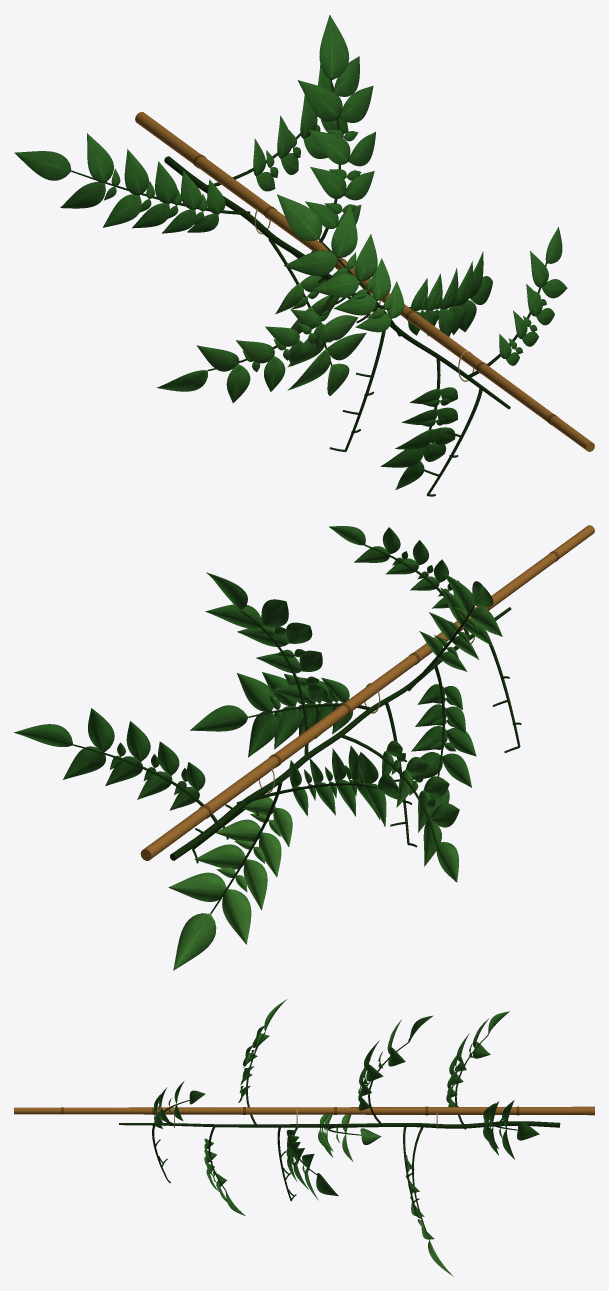
File: tomato_plant_c.obj
3 views of the same model, one above another, from view 1: azimuth 30°, elevation 25°; view 2: azimuth 150°, elevation 25°; view 3: azimuth 270°, elevation 25° (orthographic). The views are drawn at different scales.
Parts seen in each view (by area): view 1: stake, stem, leaflet.037, leaflet.066, leaflet.019, leaflet.035, leaflet.064, leaflet.065, leaflet.018, leaflet.033, leaflet.017, leaflet.036 (+10 smaller); view 2: stake, stem, leaflet.028, leaflet.026, leaflet.027, leaflet.057, leaflet.008, leaflet.056, leaflet.055, leaflet.024, leaflet.036, leaflet.025 (+11 smaller); view 3: stake, stem.
Boxes of the visible parts, x1,y1,x2,y2 form: stake: (135, 112, 594, 451); stem: (164, 156, 510, 409); leaflet.037: (319, 15, 349, 80); leaflet.066: (277, 194, 322, 241); leaflet.019: (14, 151, 71, 180); leaflet.035: (297, 80, 342, 121); leaflet.064: (283, 250, 337, 276); leaflet.065: (331, 205, 357, 258); leaflet.018: (87, 133, 113, 182); leaflet.033: (308, 129, 350, 164); leaflet.017: (60, 182, 105, 208); leaflet.036: (339, 86, 373, 122); stake: (140, 525, 594, 860); stem: (170, 607, 511, 860); leaflet.028: (173, 913, 216, 970); leaflet.026: (168, 872, 226, 901); leaflet.027: (222, 889, 251, 944); leaflet.057: (190, 705, 248, 731); leaflet.008: (14, 724, 73, 746); leaflet.056: (248, 711, 278, 757); leaflet.055: (237, 673, 274, 711); leaflet.024: (194, 844, 245, 869); leaflet.036: (205, 604, 262, 628); leaflet.025: (243, 859, 267, 910); stake: (14, 1106, 594, 1115); stem: (119, 1121, 560, 1128).
Bounding box in the file's own units: 0.7847 × 0.8056 × 1.66.
Materials: 7 (3 with a texture image).
